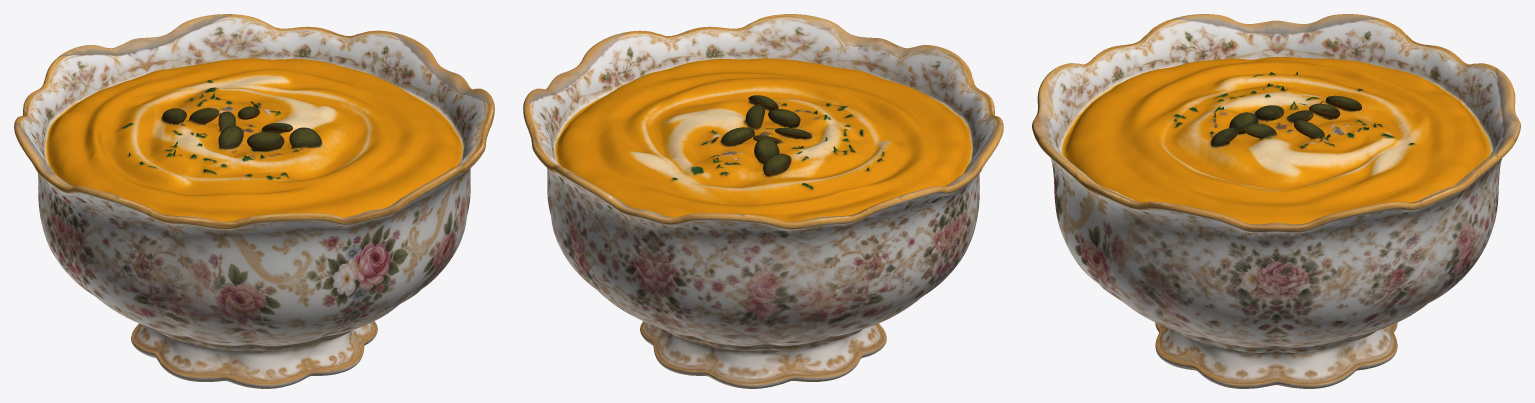
Rendered from 6dc82e26-ceff-4c1e-b2b0-5d1479231668.glb.
3 views of the same model, side by side, from view 1: azimuth 30°, elevation 25°; view 2: azimuth 150°, elevation 25°; view 3: azimuth 270°, elevation 25° (orthographic).
Bounding box in the file's own units: 1.9 × 0.9868 × 1.9.
1 material, 1 textured.
